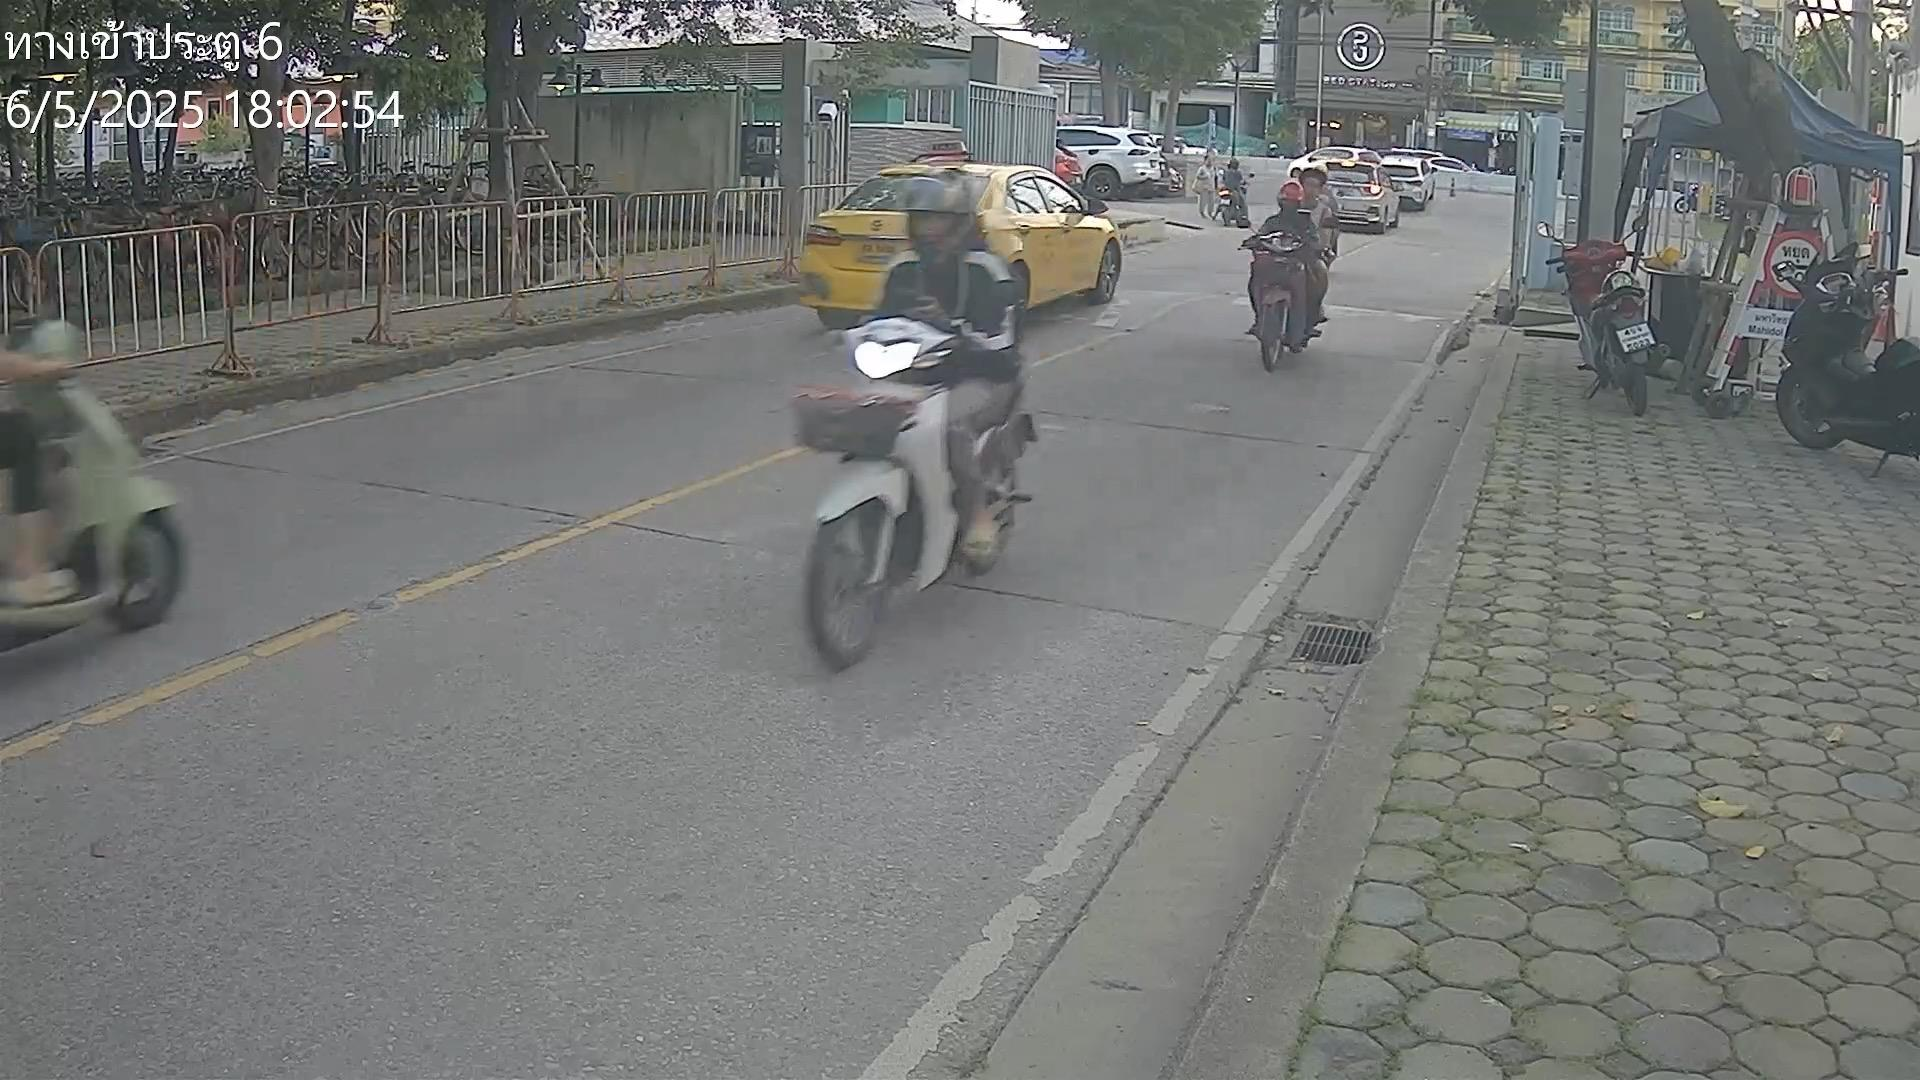With-Helmet: (903, 173, 982, 251)
